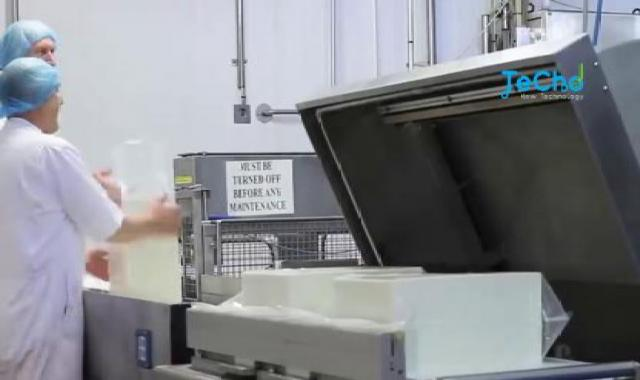hairnet: (5, 58, 76, 120), (3, 18, 67, 68)
